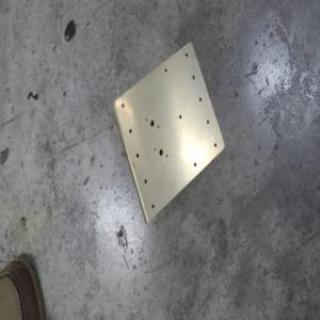MetalSheettrack_idkeyframe: (109, 38, 225, 226)
